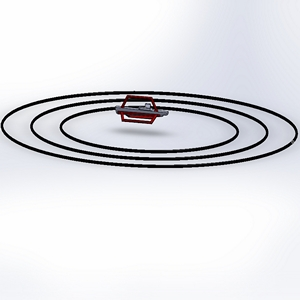circle: (1, 70, 300, 180)
submarine: (113, 91, 171, 131)
